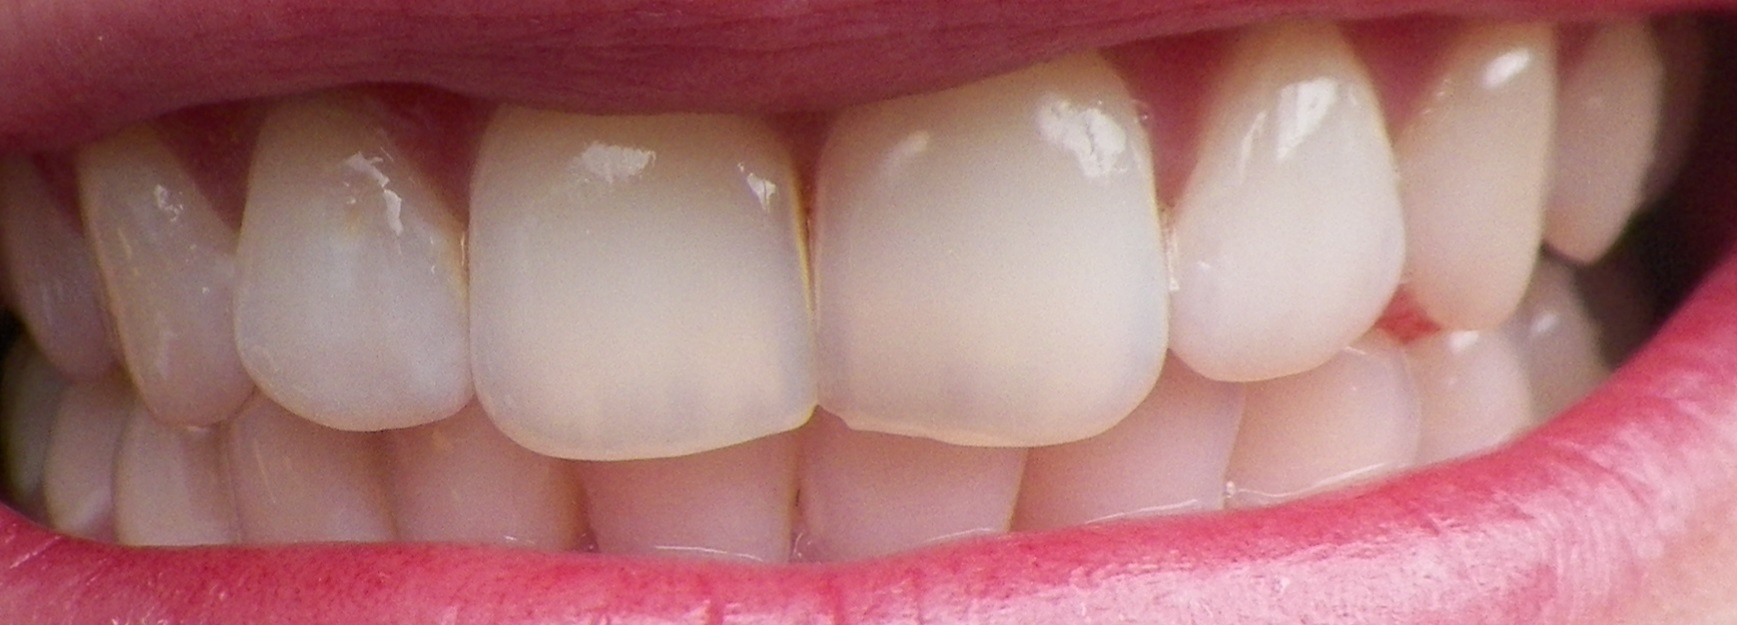boca: (6, 14, 1703, 549)
